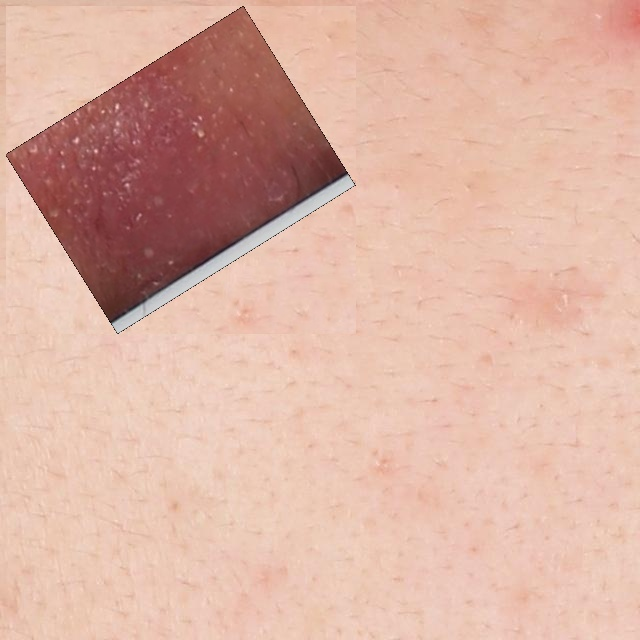nodule: (17, 17, 344, 322)
